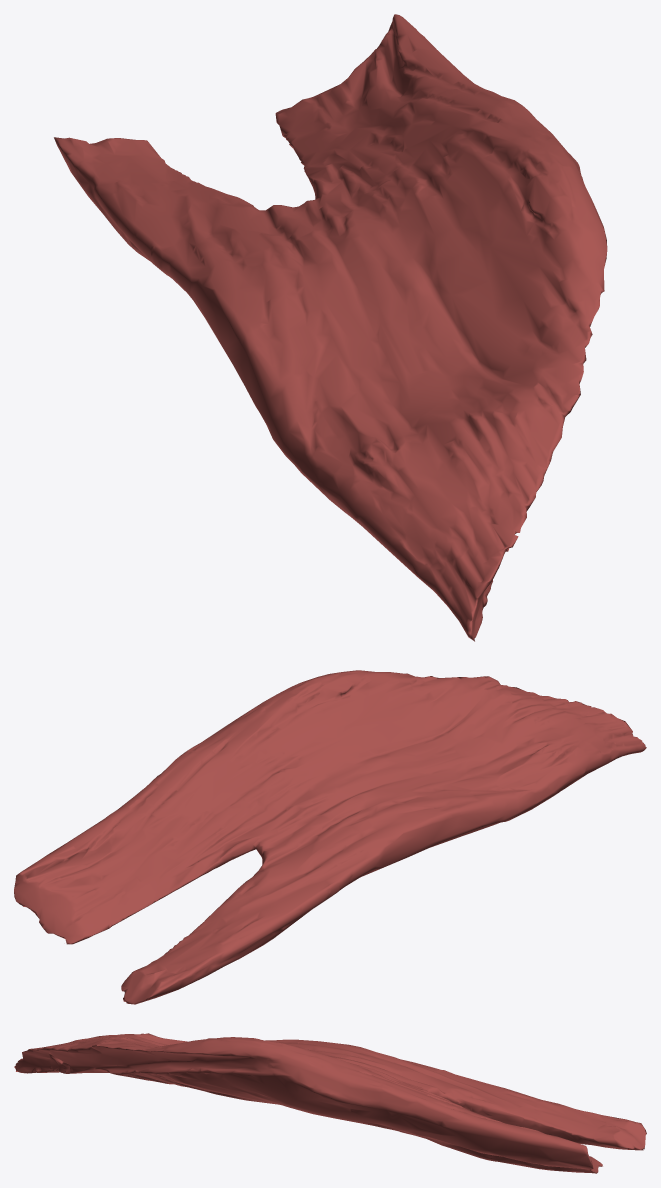
Rendered from FMA37465.glb.
3 renders of one model, top to bottom at view 1: azimuth 30°, elevation 25°; view 2: azimuth 150°, elevation 25°; view 3: azimuth 270°, elevation 25°, orthographic. The views are drawn at different scales.
Parts seen in each view (by area): view 1: FMA37465; view 2: FMA37465; view 3: FMA37465.
Part boxes in pixels (x1,y1,x2,y2): FMA37465: [54, 14, 607, 641]; FMA37465: [14, 670, 646, 1004]; FMA37465: [14, 1033, 646, 1173].
Size of the model in its own units: 0.0346 by 0.0165 by 0.0743.
